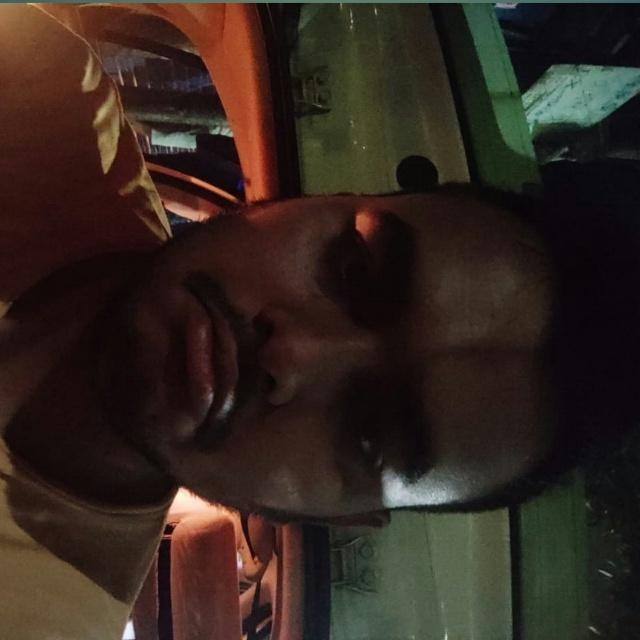Sad: (80, 154, 591, 545)
